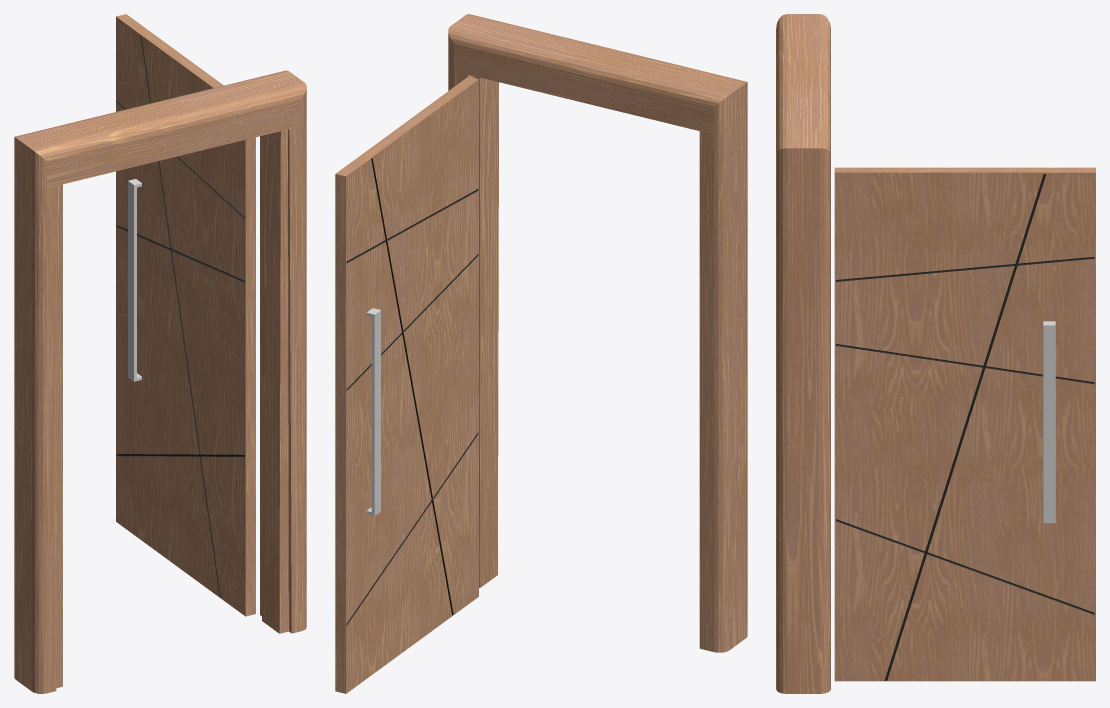
File: wooden_door_open2.dae
The picture shows the model from 3 angles, left to right: view 1: azimuth 30°, elevation 25°; view 2: azimuth 150°, elevation 25°; view 3: azimuth 270°, elevation 25°; orthographic projection. The views are drawn at different scales.
Parts seen in each view (by area): view 1: Frame, Door, Handle; view 2: Door, Frame, Handle; view 3: Door, Frame, Handle2.
Part boxes in pixels (bbox=[...]): Frame: bbox=[14, 70, 306, 693]; Door: bbox=[116, 14, 255, 616]; Handle: bbox=[128, 179, 141, 381]; Door: bbox=[335, 76, 478, 693]; Frame: bbox=[448, 14, 747, 652]; Handle: bbox=[366, 308, 380, 515]; Door: bbox=[834, 167, 1095, 681]; Frame: bbox=[776, 14, 830, 693]; Handle2: bbox=[1043, 321, 1055, 523].
Size of the model in its own units: 1.16 by 1.17 by 2.2.
